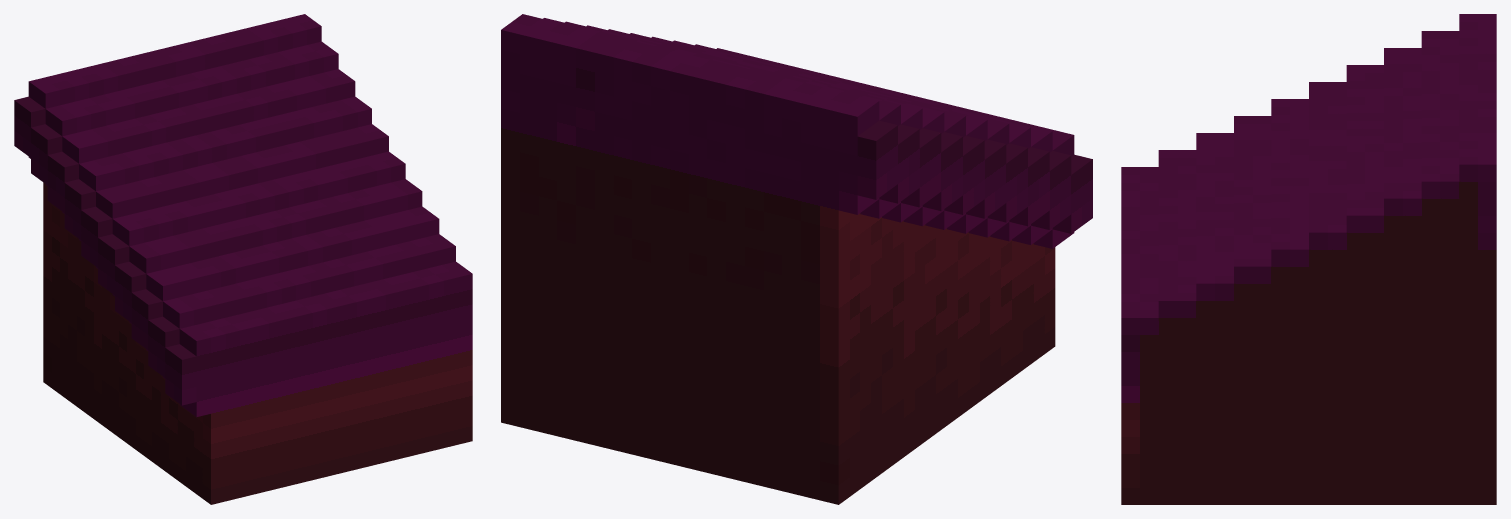
The model's file is half_ramp_full_left.glb.
3 renders of one model, left to right at view 1: azimuth 30°, elevation 25°; view 2: azimuth 150°, elevation 25°; view 3: azimuth 270°, elevation 25°, orthographic. The views are drawn at different scales.
Visible parts, largest first — view 1: half_ramp_full_left; view 2: half_ramp_full_left; view 3: half_ramp_full_left.
Part boxes in pixels (x1=…): half_ramp_full_left: x1=14, y1=14, x2=472, y2=504; half_ramp_full_left: x1=501, y1=14, x2=1092, y2=504; half_ramp_full_left: x1=1121, y1=14, x2=1496, y2=504.
Size of the model in its own units: 2 by 2 by 2.
Materials: 1 (1 with a texture image).
